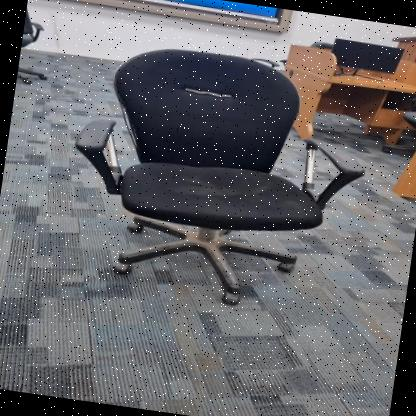chair: (50, 26, 380, 320)
